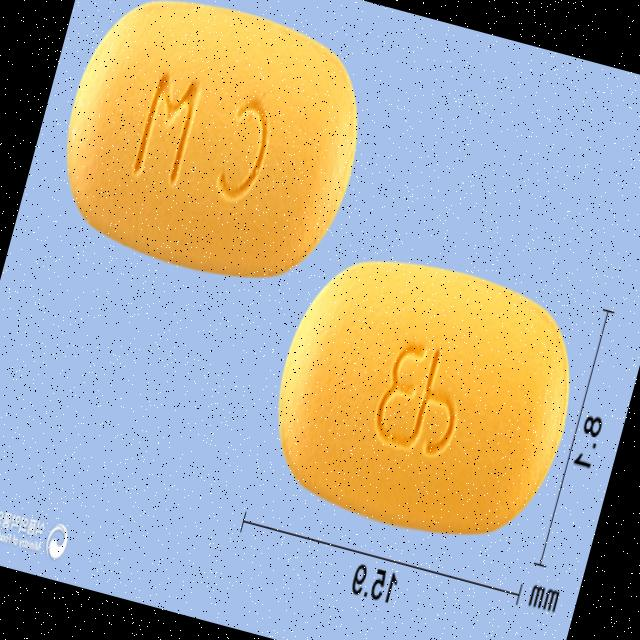Claridon: (247, 224, 600, 568), (34, 0, 387, 310)
